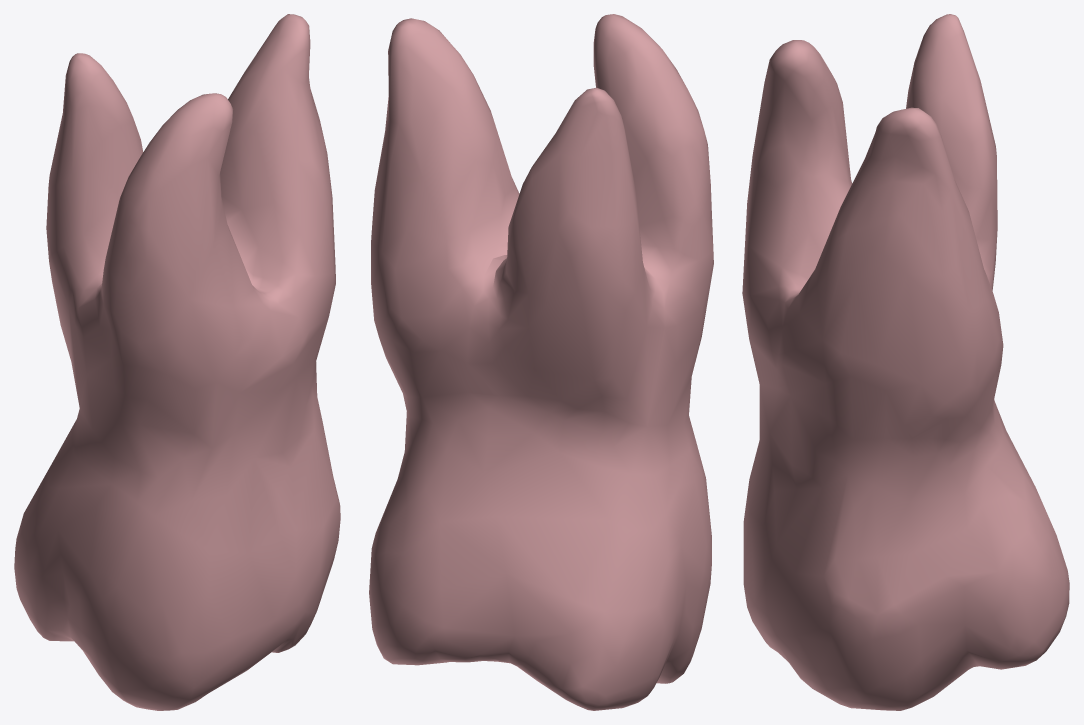
File: fma55698_fj1276.glb
The picture shows the model from 3 angles, left to right: view 1: azimuth 30°, elevation 25°; view 2: azimuth 150°, elevation 25°; view 3: azimuth 270°, elevation 25°; orthographic projection. The views are drawn at different scales.
Visible parts, largest first — view 1: FMA55698_FJ1276; view 2: FMA55698_FJ1276; view 3: FMA55698_FJ1276.
Part boxes in pixels (left/top/right/bottom): FMA55698_FJ1276: left=14, top=14, right=340, bottom=710; FMA55698_FJ1276: left=369, top=14, right=713, bottom=710; FMA55698_FJ1276: left=742, top=14, right=1069, bottom=710.
Size of the model in its own units: 0.0116 by 0.0246 by 0.0115.
